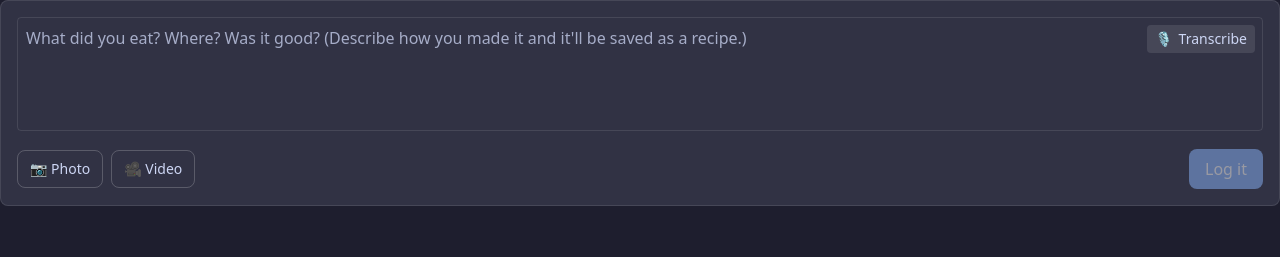
FoodCapture voice clips › discards the audio when a staged clip is removed by hand
Click the button with test id "food-capture-record" at (1201, 39), box 1147,25 -> 1255,53
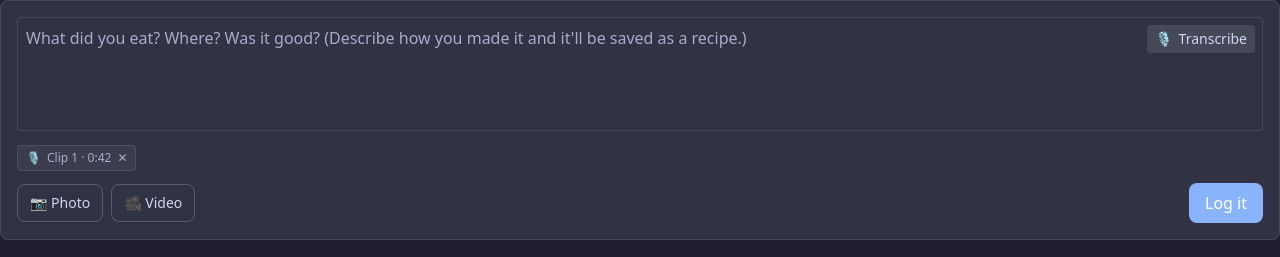
Now the text "Clip 1 · 0:42" is shown, box 47,150 -> 111,166
Click the button named "Discard Clip 1 · 0:42" at (122, 158), box 117,150 -> 128,166
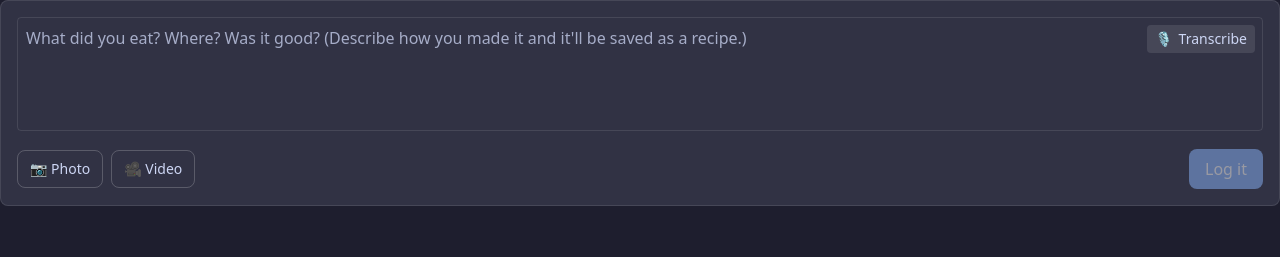
Now the text "Clip 1 · 0:42" is gone
